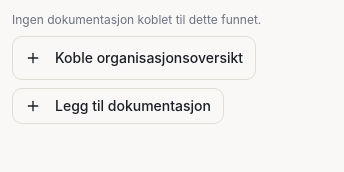
Link organization overview without writing production data › links exactly one company-register reference on finding 1, without role copies
Click the button "Koble organisasjonsoversikt" at (134, 58), box [12,36,256,80]
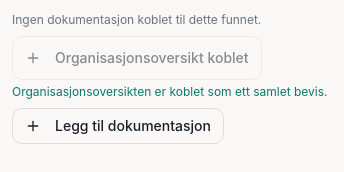
Check: the message "Organisasjonsoversikten er koblet som ett samlet bevis." is shown, box [12,84,328,99]
Check: the button "Organisasjonsoversikt koblet" is disabled, box [12,36,262,80]
